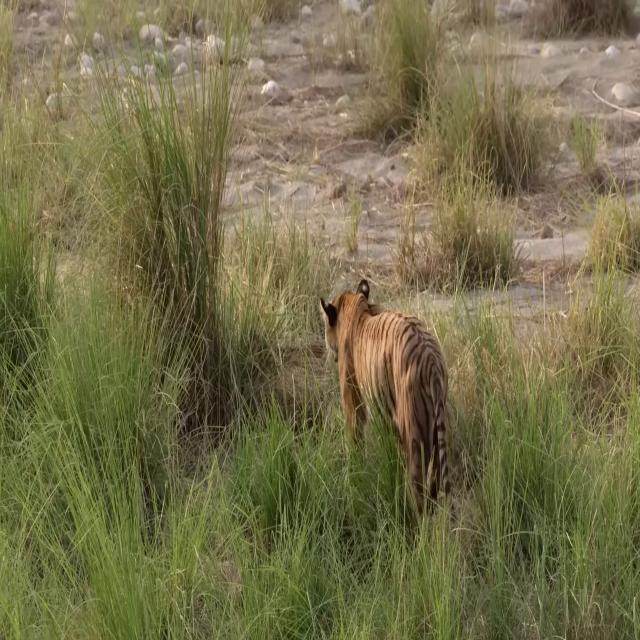tiger: (319, 278, 456, 526)
